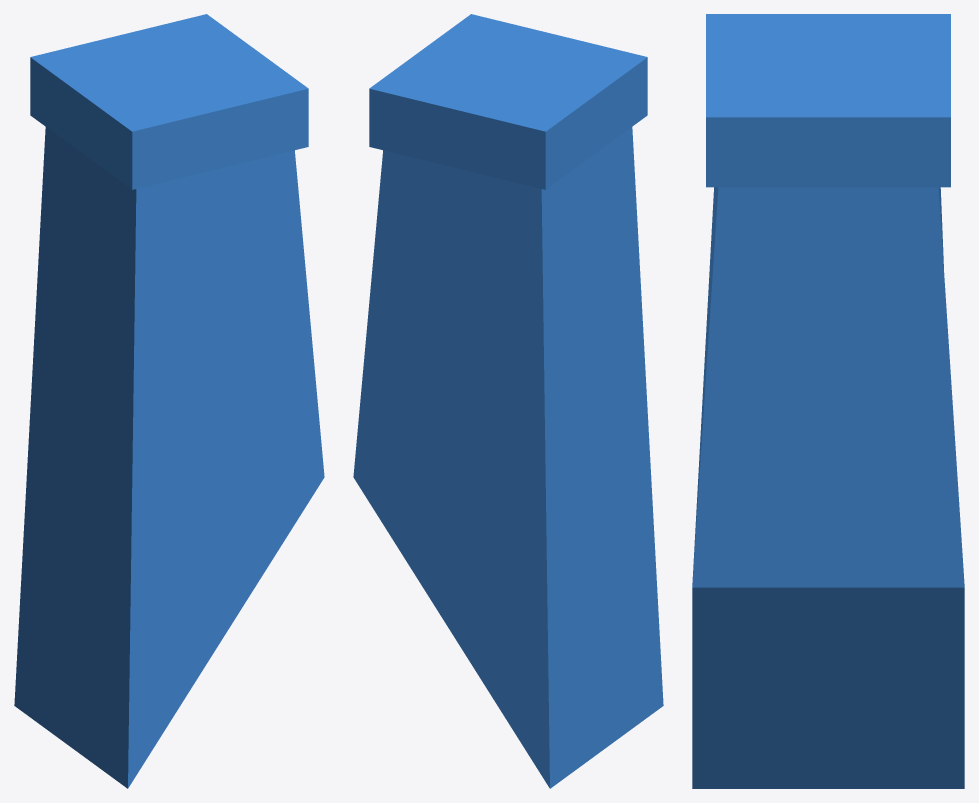
The model's file is Collision_Prop_Chimney.fbx.
3 renders of one model, left to right at view 1: azimuth 30°, elevation 25°; view 2: azimuth 150°, elevation 25°; view 3: azimuth 270°, elevation 25°, orthographic. The views are drawn at different scales.
Parts seen in each view (by area): view 1: UCX_Prop_Chimney_1; view 2: UCX_Prop_Chimney_1; view 3: UCX_Prop_Chimney_1.
Boxes of the visible parts, <box> form: UCX_Prop_Chimney_1: <box>14,14,324,788</box>; UCX_Prop_Chimney_1: <box>353,14,663,788</box>; UCX_Prop_Chimney_1: <box>692,14,964,788</box>.
Bounding box in the file's own units: 100 × 316 × 100.
